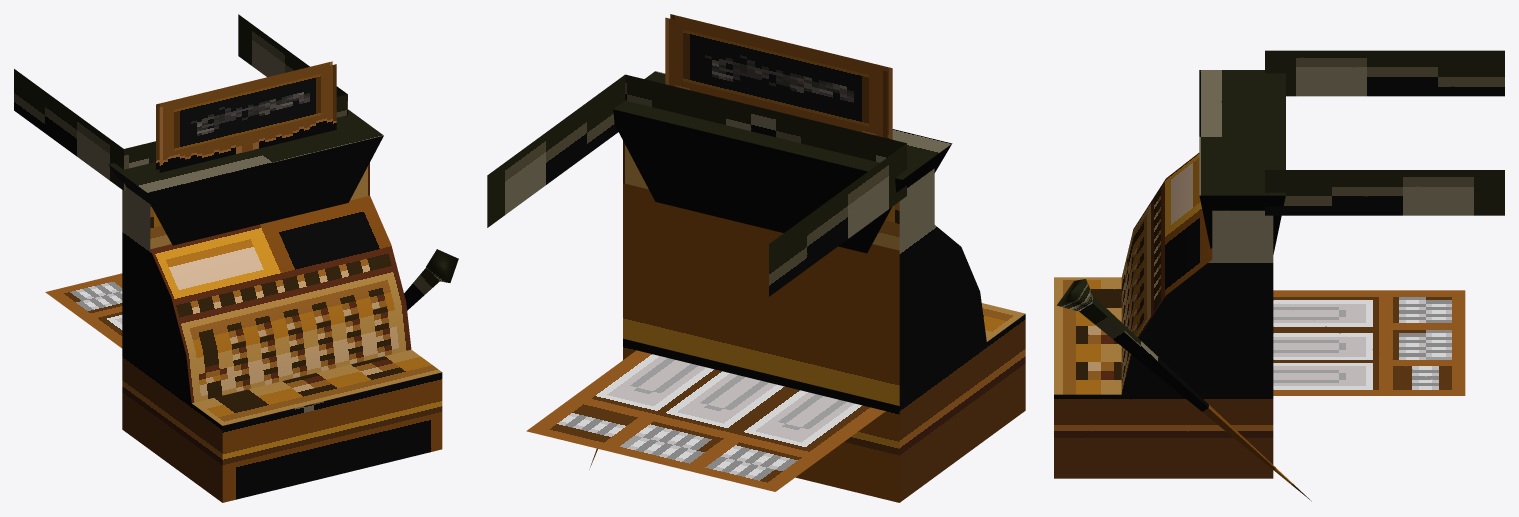
The picture shows the model from 3 angles, left to right: view 1: azimuth 30°, elevation 25°; view 2: azimuth 150°, elevation 25°; view 3: azimuth 270°, elevation 25°; orthographic projection. The views are drawn at different scales.
Parts seen in each view (by area): view 1: 3759kg_sh0_06; view 2: 3759kg_sh0_06; view 3: 3759kg_sh0_06.
Boxes of the visible parts, x1,y1,x2,y2 form: 3759kg_sh0_06: (14,14,458,502); 3759kg_sh0_06: (487,14,1025,502); 3759kg_sh0_06: (1054,50,1504,501).
Size of the model in its own units: 0.8074 by 1.05 by 1.14.
4 materials, 4 textured.
